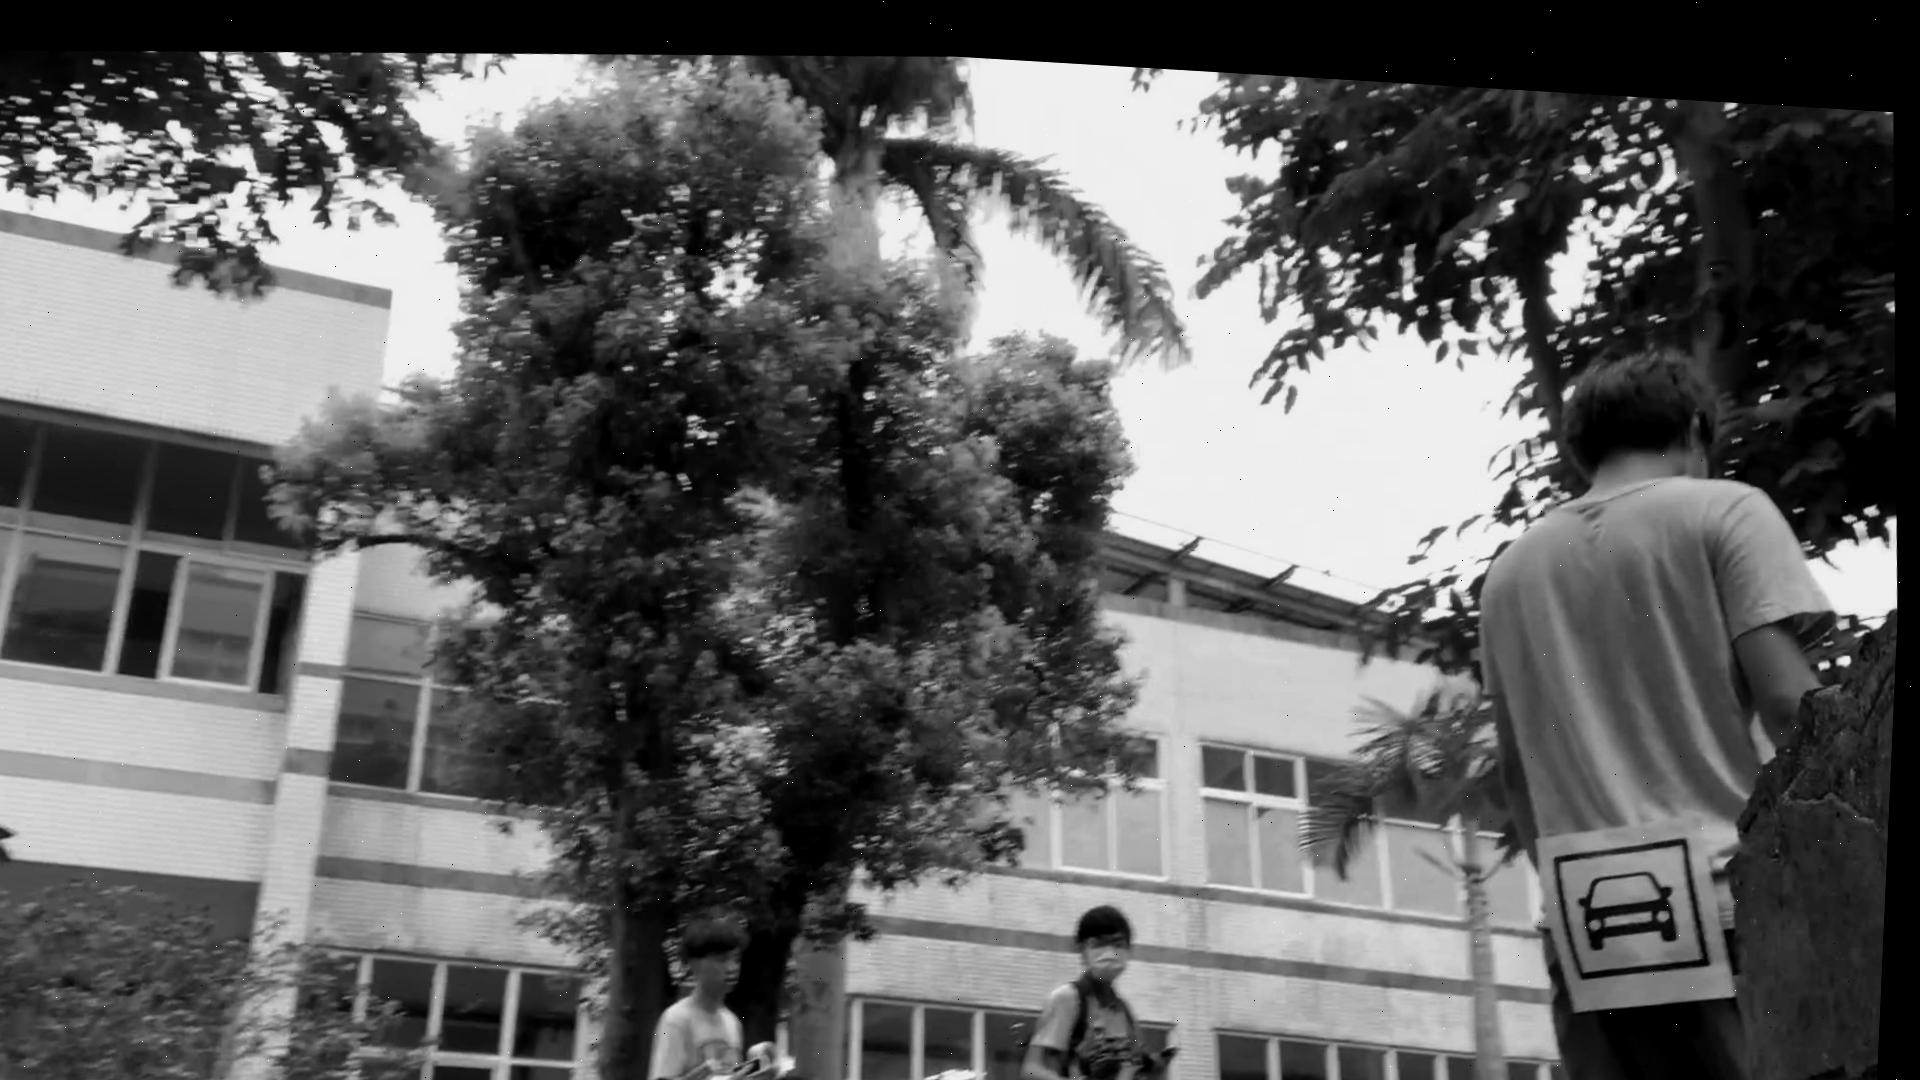car_img: (1555, 808, 1722, 967)
